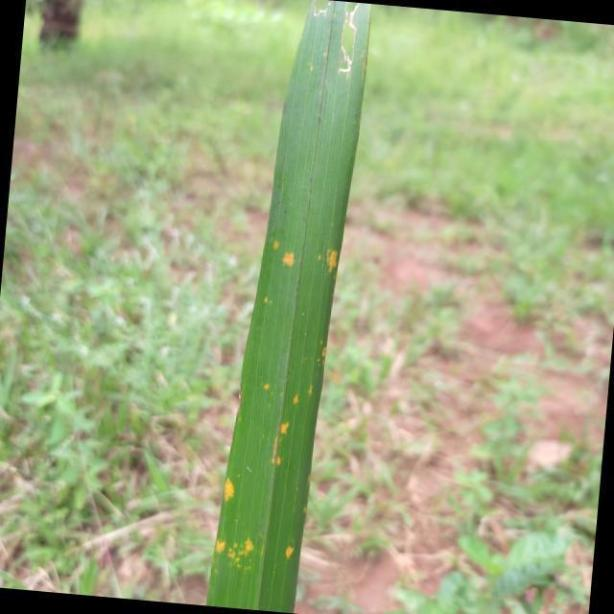Kalium: (205, 0, 374, 614)
